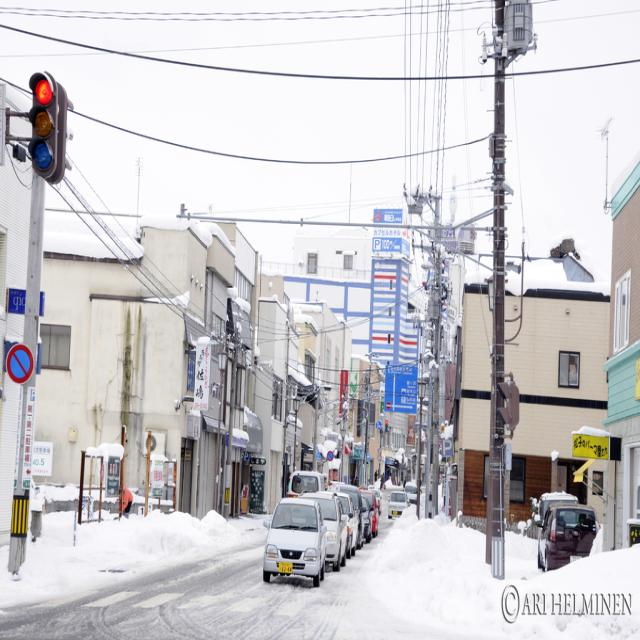car: (263, 494, 328, 586), (537, 502, 596, 570), (388, 486, 407, 514)
